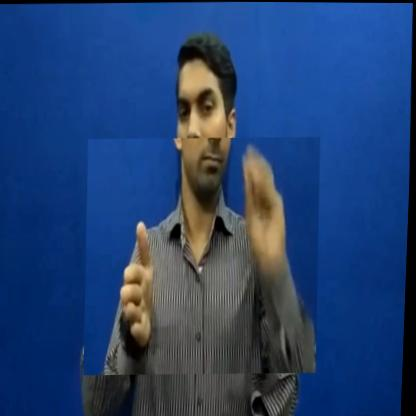Expensive: (82, 135, 325, 376)
